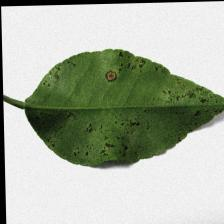canker: (54, 56, 219, 168)
